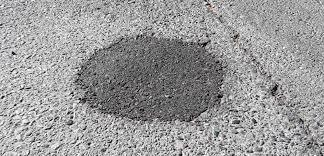pothole: (78, 34, 225, 123)
